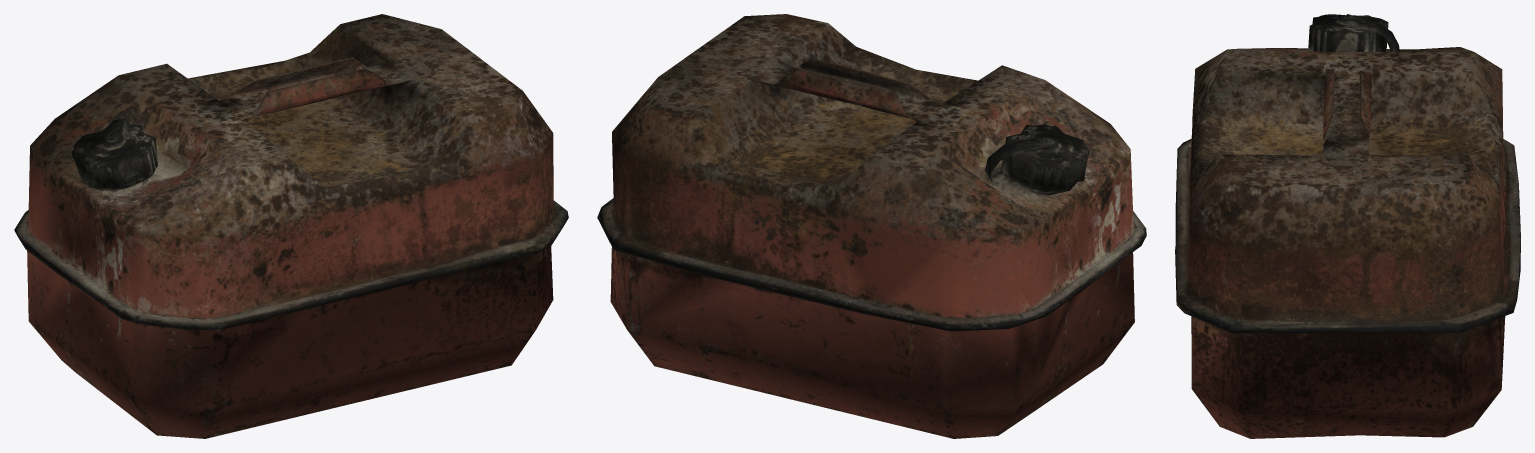
The model's file is rusty_jerrycan_vktifj1ga_low.glb.
The picture shows the model from 3 angles, left to right: view 1: azimuth 30°, elevation 25°; view 2: azimuth 150°, elevation 25°; view 3: azimuth 270°, elevation 25°; orthographic projection. The views are drawn at different scales.
Visible parts, largest first — view 1: vktifj1ga_LOD0_TIER3_000; view 2: vktifj1ga_LOD0_TIER3_000; view 3: vktifj1ga_LOD0_TIER3_000.
Part boxes in pixels (x1,y1,x2,y2): vktifj1ga_LOD0_TIER3_000: [14, 14, 568, 438]; vktifj1ga_LOD0_TIER3_000: [597, 14, 1146, 438]; vktifj1ga_LOD0_TIER3_000: [1175, 14, 1520, 438].
Size of the model in its own units: 0.3772 by 0.2264 by 0.2627.
1 material, 1 textured.
